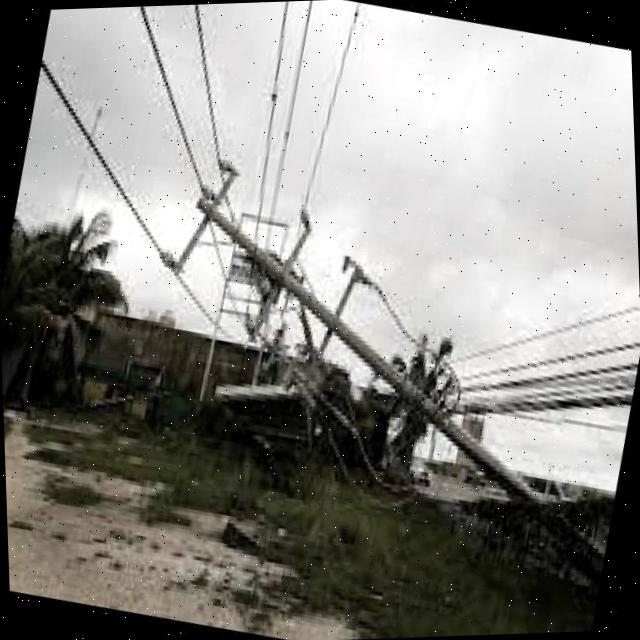Broken Pole: (157, 151, 603, 583)
